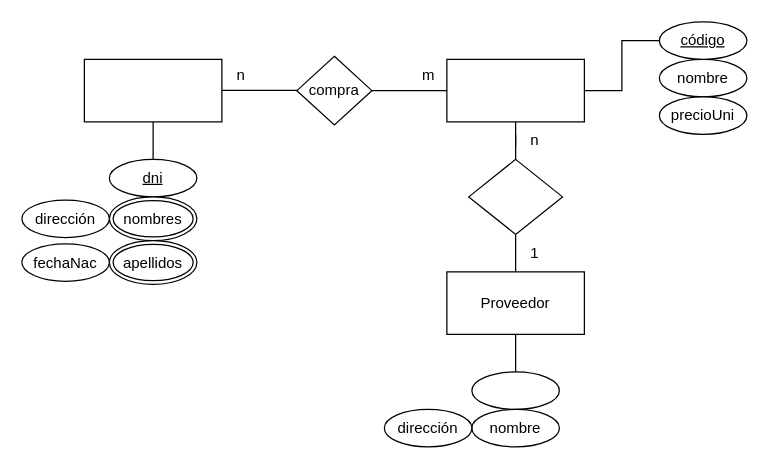
The diagram is 769 pixels wide and 469 high, and some of its shapes have lost their labels. The shapes that lost their labels are listed below. From the top down, each one's centre as x and y in pixels, then its label:
[152,90]: Cliente
[515,90]: Producto
[515,196]: suministrado
[515,390]: CUIT
